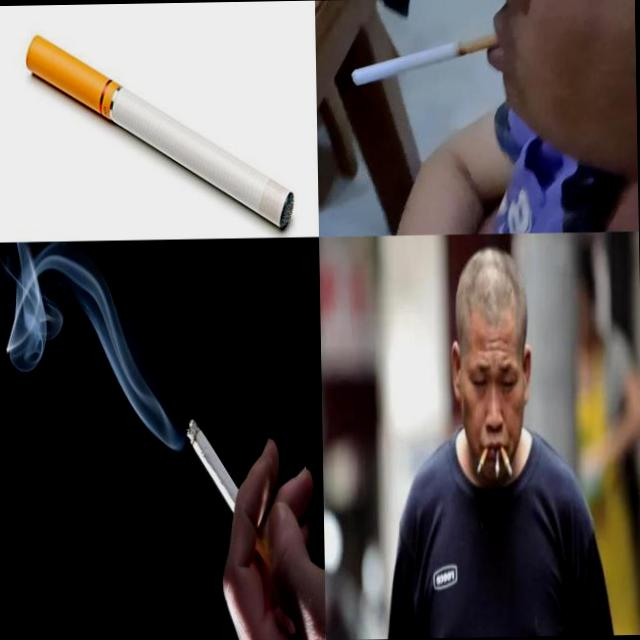smoke: (24, 29, 296, 235), (184, 415, 284, 584), (348, 32, 501, 86), (474, 445, 488, 474), (500, 446, 513, 477), (494, 448, 500, 478)
